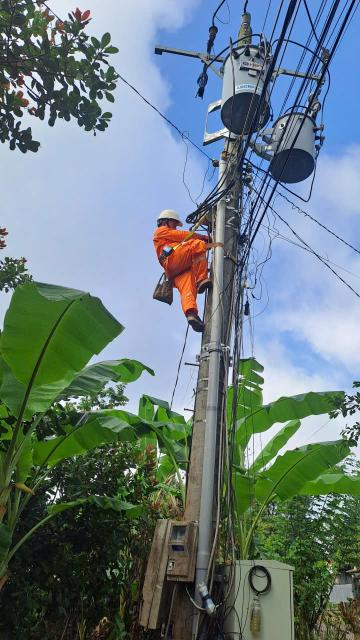gloves: (199, 229, 215, 248)
harness: (150, 245, 200, 263)
helmet: (150, 202, 188, 228)
shoes: (181, 309, 214, 337), (192, 273, 215, 295)
